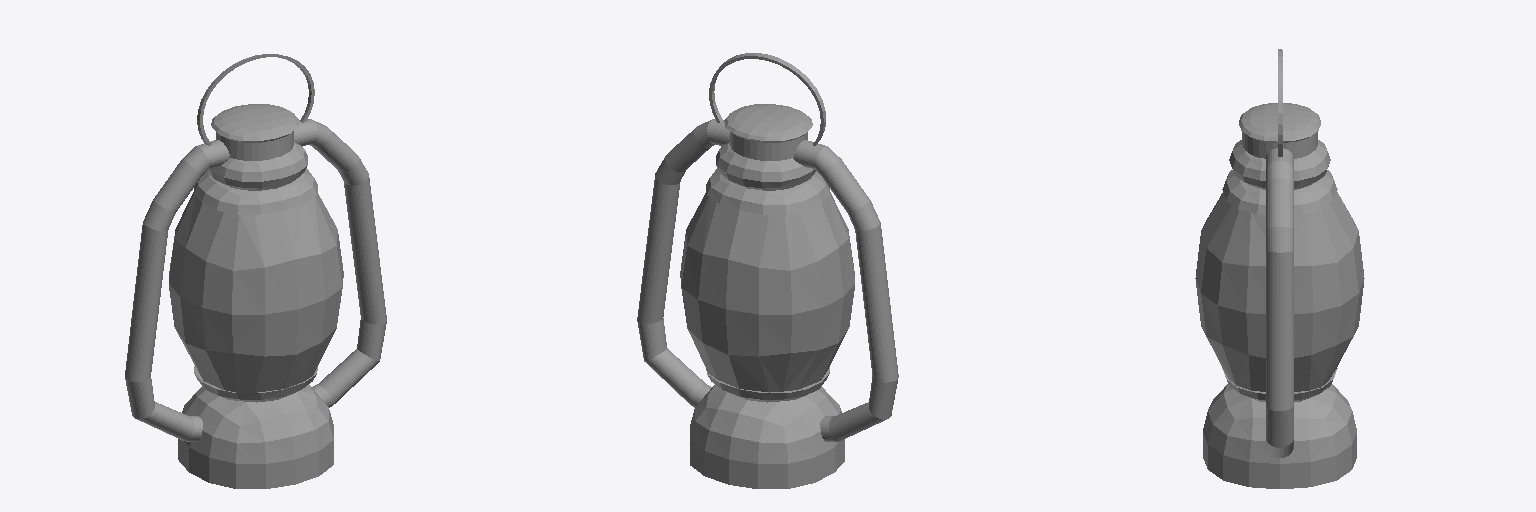
Rendered from oillamp.obj.
3 renders of one model, left to right at view 1: azimuth 30°, elevation 25°; view 2: azimuth 150°, elevation 25°; view 3: azimuth 270°, elevation 25°, orthographic.
Parts seen in each view (by area): view 1: Cube.004; view 2: Cube.004; view 3: Cube.004.
Part boxes in pixels (x1,y1,x2,y2): Cube.004: (125,54,386,488); Cube.004: (637,53,898,488); Cube.004: (1195,49,1364,488).
Bounding box in the file's own units: 1.03 × 1.53 × 0.5857.